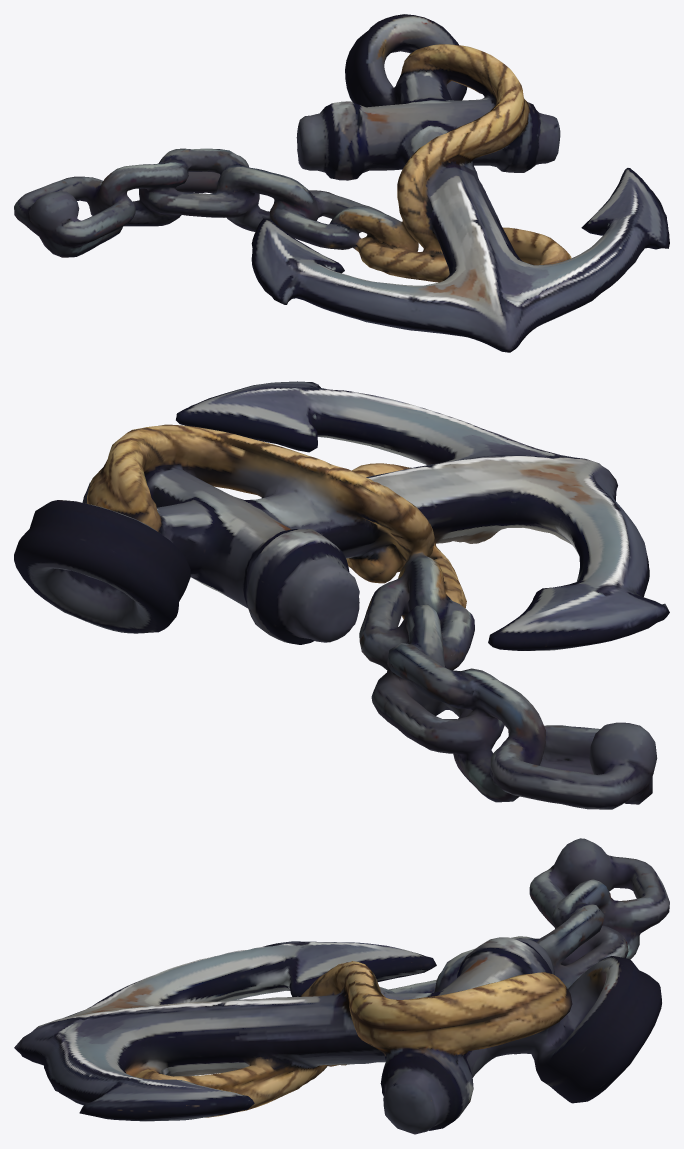
Rendered from Anchor.fbx.
3 renders of one model, top to bottom at view 1: azimuth 30°, elevation 25°; view 2: azimuth 150°, elevation 25°; view 3: azimuth 270°, elevation 25°, orthographic. The views are drawn at different scales.
Visible parts, largest first — view 1: RETOPO; view 2: RETOPO; view 3: RETOPO.
Boxes of the visible parts, x1,y1,x2,y2 form: RETOPO: (14,14,669,352); RETOPO: (14,381,669,809); RETOPO: (14,838,669,1134).
Size of the model in its own units: 89.77 by 25.45 by 86.22.
1 material, 1 textured.
